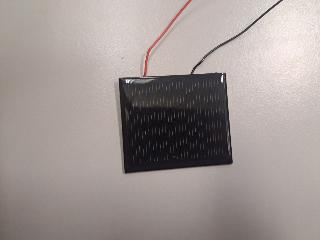solarboard: (119, 73, 232, 173)
